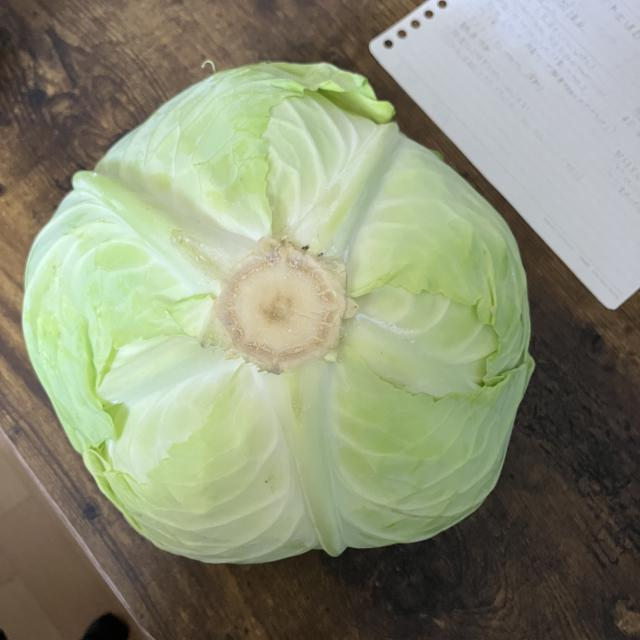cabbage: (18, 59, 536, 572)
